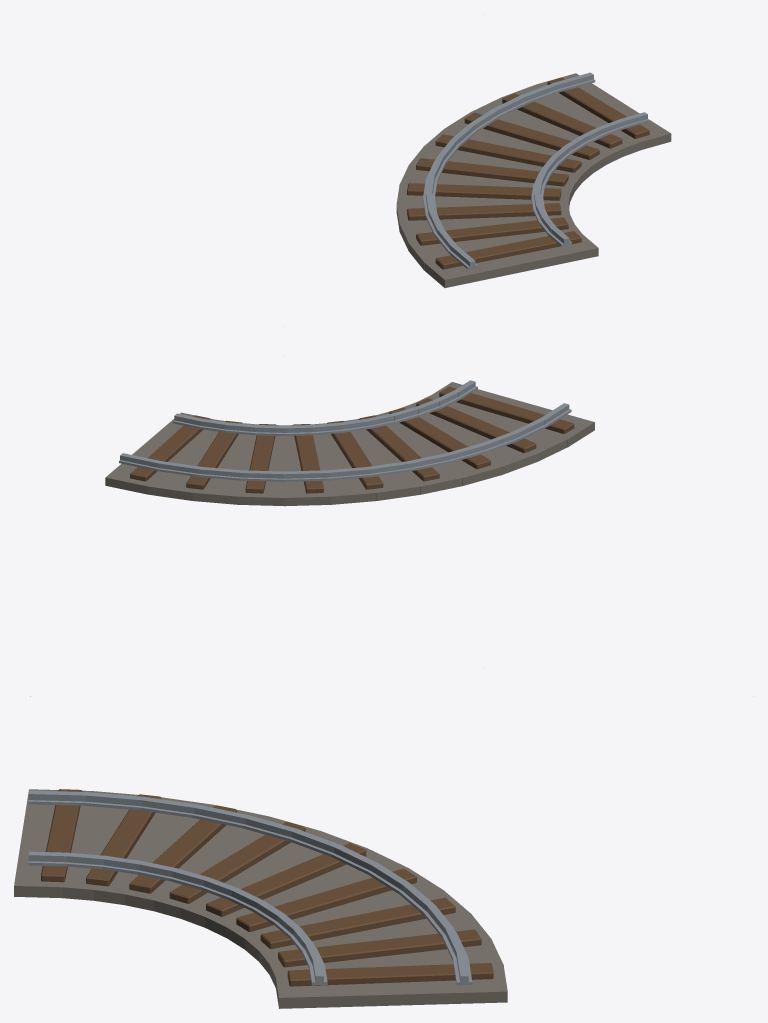
File: rail_virage.glb
3 views of the same model, one above another, from view 1: azimuth 30°, elevation 25°; view 2: azimuth 150°, elevation 25°; view 3: azimuth 270°, elevation 25° (orthographic). The views are drawn at different scales.
Parts seen in each view (by area): view 1: rail_ballast.004, rail_traverse.006, rail_rail.006; view 2: rail_ballast.004, rail_traverse.006, rail_rail.006; view 3: rail_ballast.004, rail_traverse.006, rail_rail.006.
Boxes of the visible parts, <box> form: rail_ballast.004: <box>396,73,671,287</box>; rail_traverse.006: <box>407,77,649,269</box>; rail_rail.006: <box>423,72,649,269</box>; rail_ballast.004: <box>105,382,594,506</box>; rail_traverse.006: <box>130,386,574,493</box>; rail_rail.006: <box>119,380,571,481</box>; rail_ballast.004: <box>14,789,507,1008</box>; rail_traverse.006: <box>41,789,493,986</box>; rail_rail.006: <box>28,790,472,985</box>.
Size of the model in its own units: 3.07 by 0.12 by 3.07.
